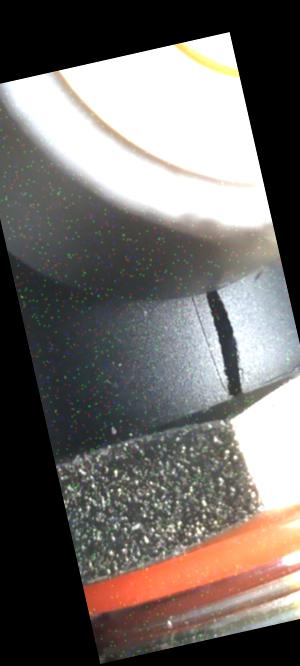craze: (202, 280, 255, 395)
joint line: (186, 291, 223, 392)
